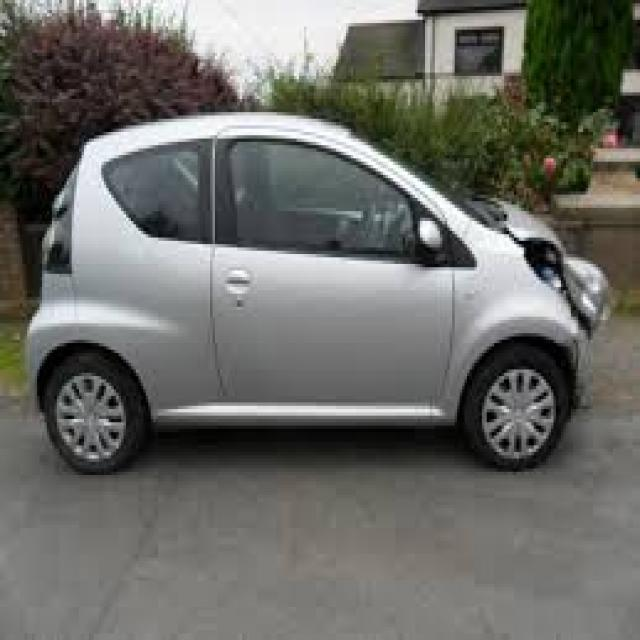moderate: (462, 186, 607, 458)
